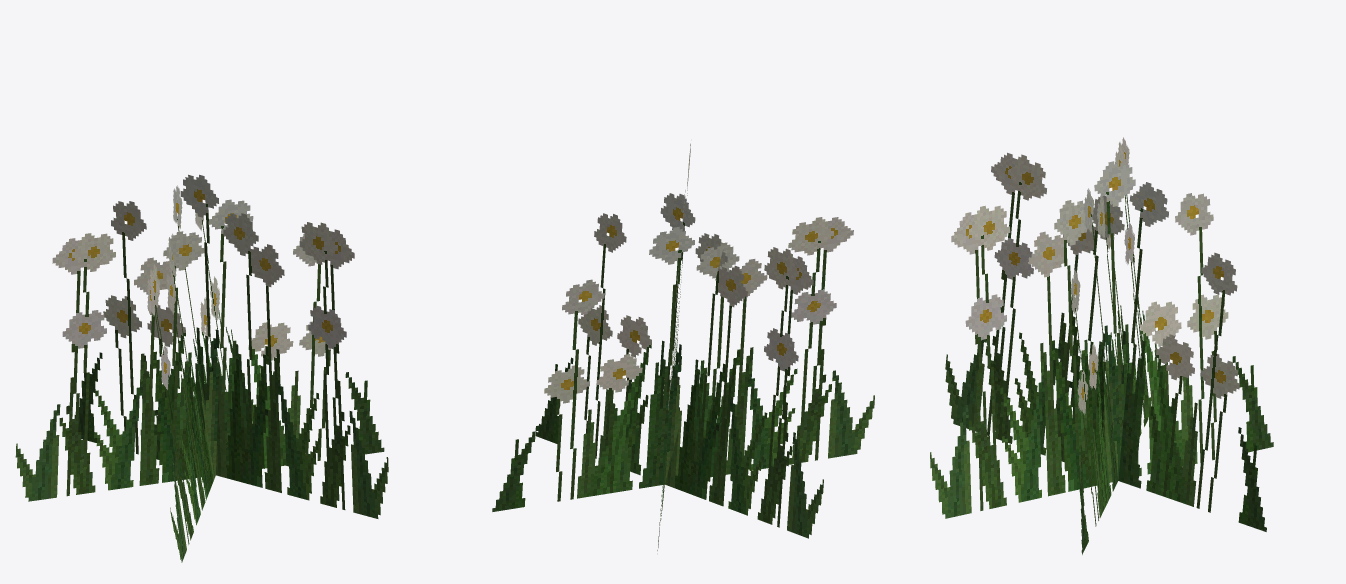
The model's file is FOLIAGE_Flowers_White_01.glb.
3 renders of one model, left to right at view 1: azimuth 30°, elevation 25°; view 2: azimuth 150°, elevation 25°; view 3: azimuth 270°, elevation 25°, orthographic. The views are drawn at different scales.
Parts seen in each view (by area): view 1: FOLIAGE_Flowers_White_01; view 2: FOLIAGE_Flowers_White_01; view 3: FOLIAGE_Flowers_White_01.
Part boxes in pixels (bbox=[...]): FOLIAGE_Flowers_White_01: bbox=[15, 174, 388, 562]; FOLIAGE_Flowers_White_01: bbox=[492, 143, 874, 550]; FOLIAGE_Flowers_White_01: bbox=[930, 137, 1273, 554].
Bounding box in the file's own units: 0.4863 × 0.5005 × 0.4671.
1 material, 1 textured.
